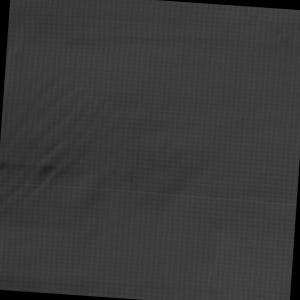Wrinkle: (1, 22, 146, 241)
